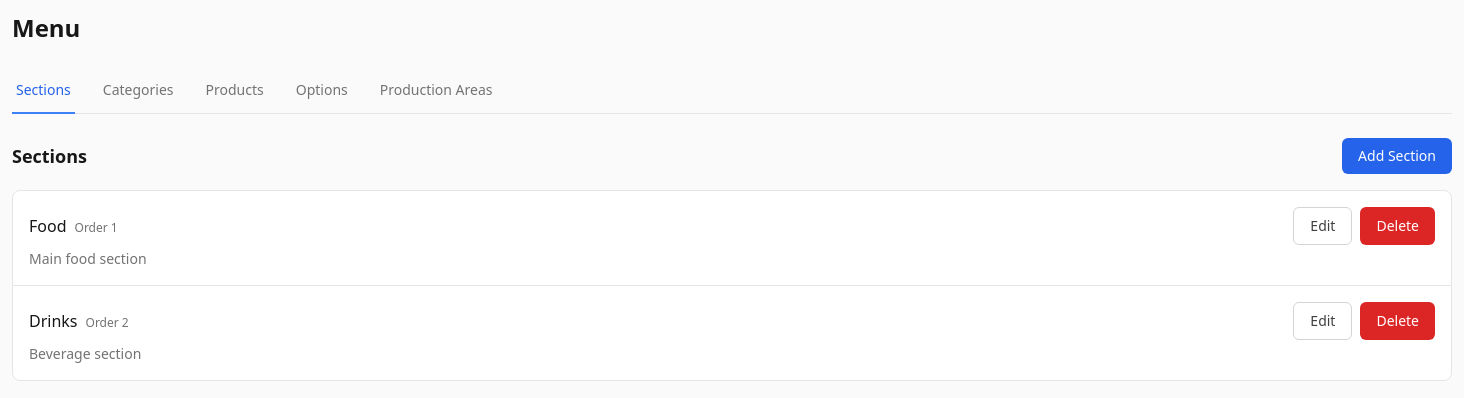
MenuPage › switches to the categories tab when clicked
Expected: the heading "Sections" is shown, [12,142,87,170]
Click the tab "Categories" at (138, 91), box [99,68,178,114]
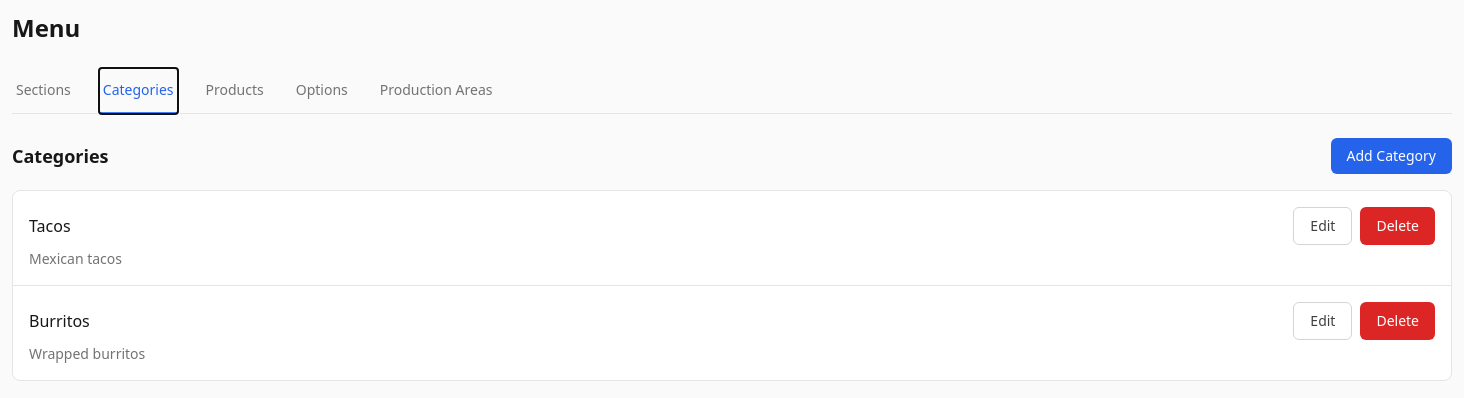
Expected: the heading "Categories" is shown, [12,142,109,170]
Expected: the text "Tacos" is shown, [29,214,71,238]
Expected: the text "Food" is gone
